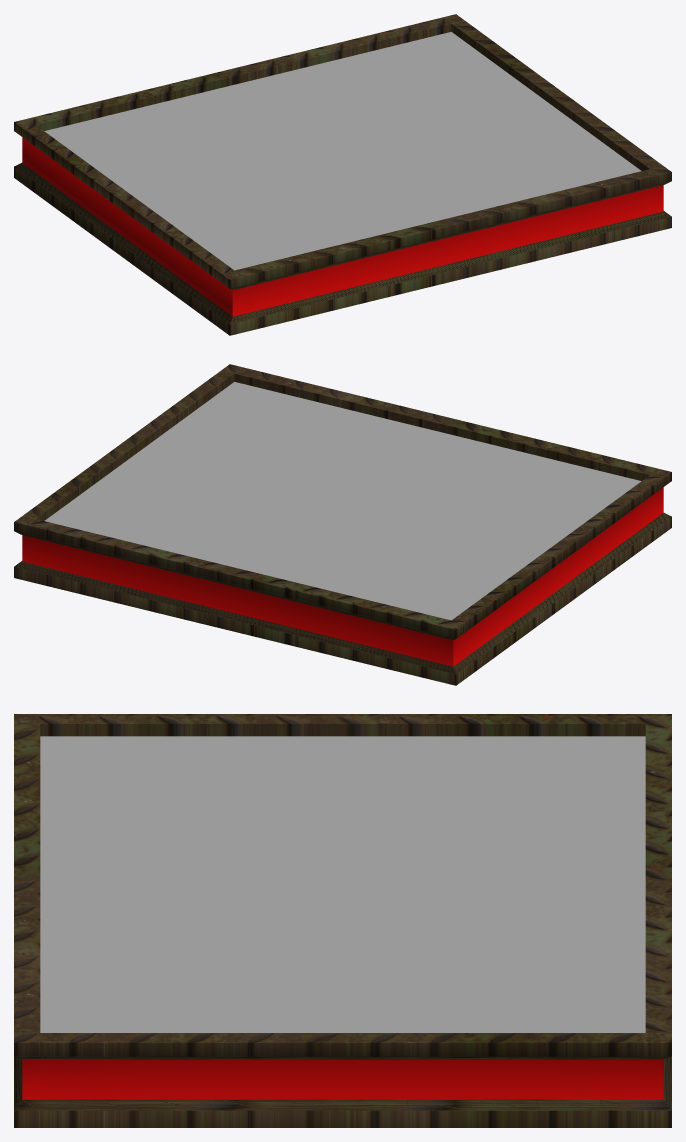
File: jumping_platform.fbx
3 renders of one model, top to bottom at view 1: azimuth 30°, elevation 25°; view 2: azimuth 150°, elevation 25°; view 3: azimuth 270°, elevation 25°, orthographic. The views are drawn at different scales.
Visible parts, largest first — view 1: jumpingbase_geo, corners_geo; view 2: jumpingbase_geo, corners_geo; view 3: jumpingbase_geo, corners_geo.
Part boxes in pixels (bbox=[...]): jumpingbase_geo: bbox=[44, 32, 640, 270]; corners_geo: bbox=[14, 14, 671, 335]; jumpingbase_geo: bbox=[45, 382, 641, 620]; corners_geo: bbox=[14, 364, 671, 685]; jumpingbase_geo: bbox=[40, 736, 645, 1032]; corners_geo: bbox=[14, 714, 671, 1127].
Size of the model in its own units: 39.63 by 4.78 by 33.51.
